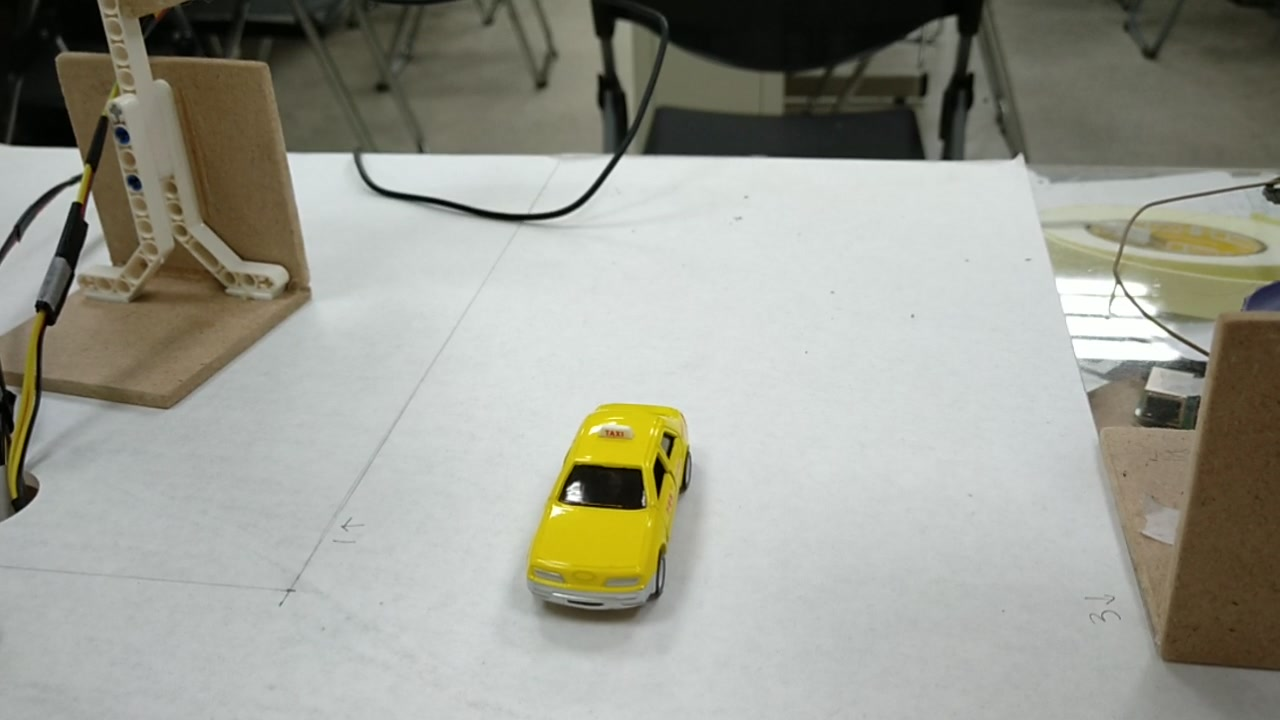car: (525, 397, 691, 623)
